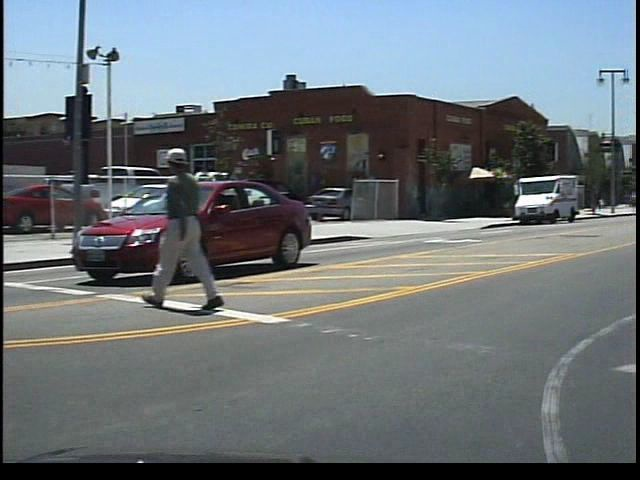person: (153, 143, 237, 314)
